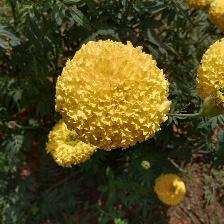marigold: (54, 39, 179, 147), (46, 119, 100, 164), (199, 37, 224, 111), (154, 175, 186, 205), (187, 1, 215, 13), (214, 1, 224, 29)
